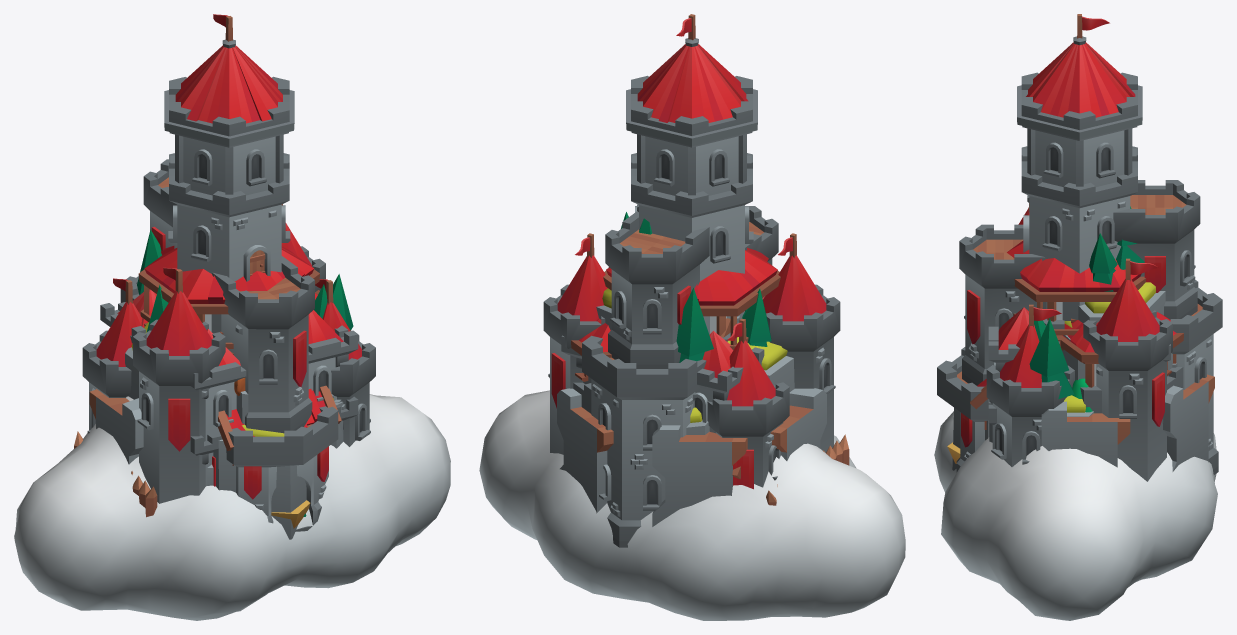
Rendered from medieval.glb.
3 views of the same model, side by side, from view 1: azimuth 30°, elevation 25°; view 2: azimuth 150°, elevation 25°; view 3: azimuth 270°, elevation 25° (orthographic). The views are drawn at different scales.
Parts seen in each view (by area): view 1: building_castle_red, cloud_big, building_barracks_red, building_tower_B_top_red, mountain_C_grass, wall_corner_A_outside, mountain_A_grass_trees, building_watermill_red, fence_wood_straight; view 2: building_castle_red, cloud_big, wall_corner_B_outside, wall_corner_A_outside, building_tower_B_top_red, building_barracks_red, mountain_A_grass_trees, mountain_C_grass, building_archeryrange_red, mountain_B_grass_trees; view 3: building_castle_red, cloud_big, building_tower_B_top_red, mountain_B_grass_trees, wall_corner_A_outside, wall_straight, building_archeryrange_red, building_barracks_red, mountain_A_grass_trees, mountain_C_grass.
Part boxes in pixels (x1,y1,x2,y2): building_castle_red: (82,14,375,531); cloud_big: (14,394,450,620); building_barracks_red: (100,289,358,486); building_tower_B_top_red: (138,245,319,354); mountain_C_grass: (125,322,343,539); wall_corner_A_outside: (89,392,139,464); mountain_A_grass_trees: (137,229,353,447); building_watermill_red: (218,385,341,465); fence_wood_straight: (74,431,157,517); building_castle_red: (543,14,840,547); cloud_big: (479,390,905,620); wall_corner_B_outside: (652,388,822,526); wall_corner_A_outside: (557,388,826,513); building_tower_B_top_red: (603,247,780,350); building_barracks_red: (561,296,764,433); mountain_A_grass_trees: (608,267,771,362); mountain_C_grass: (686,337,794,434); building_archeryrange_red: (571,318,740,479); mountain_B_grass_trees: (583,212,747,384); building_castle_red: (937,14,1222,481); cloud_big: (934,411,1217,620); building_tower_B_top_red: (1007,240,1146,350); mountain_B_grass_trees: (1034,206,1172,416); wall_corner_A_outside: (1163,374,1214,471); wall_straight: (1041,401,1130,467); building_archeryrange_red: (1056,312,1183,413); building_barracks_red: (988,307,1170,424); mountain_A_grass_trees: (989,318,1074,404); mountain_C_grass: (952,408,992,470).
Bounding box in the file's own units: 3.61 × 4.89 × 2.28.
Materials: 1 (1 with a texture image).
